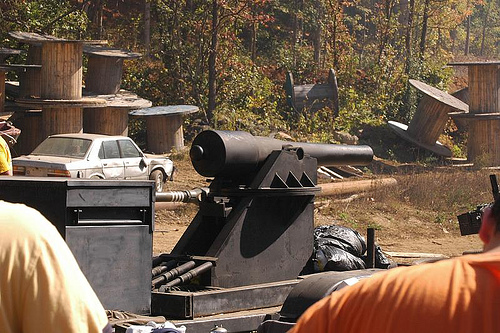rifle: (140, 122, 389, 300)
